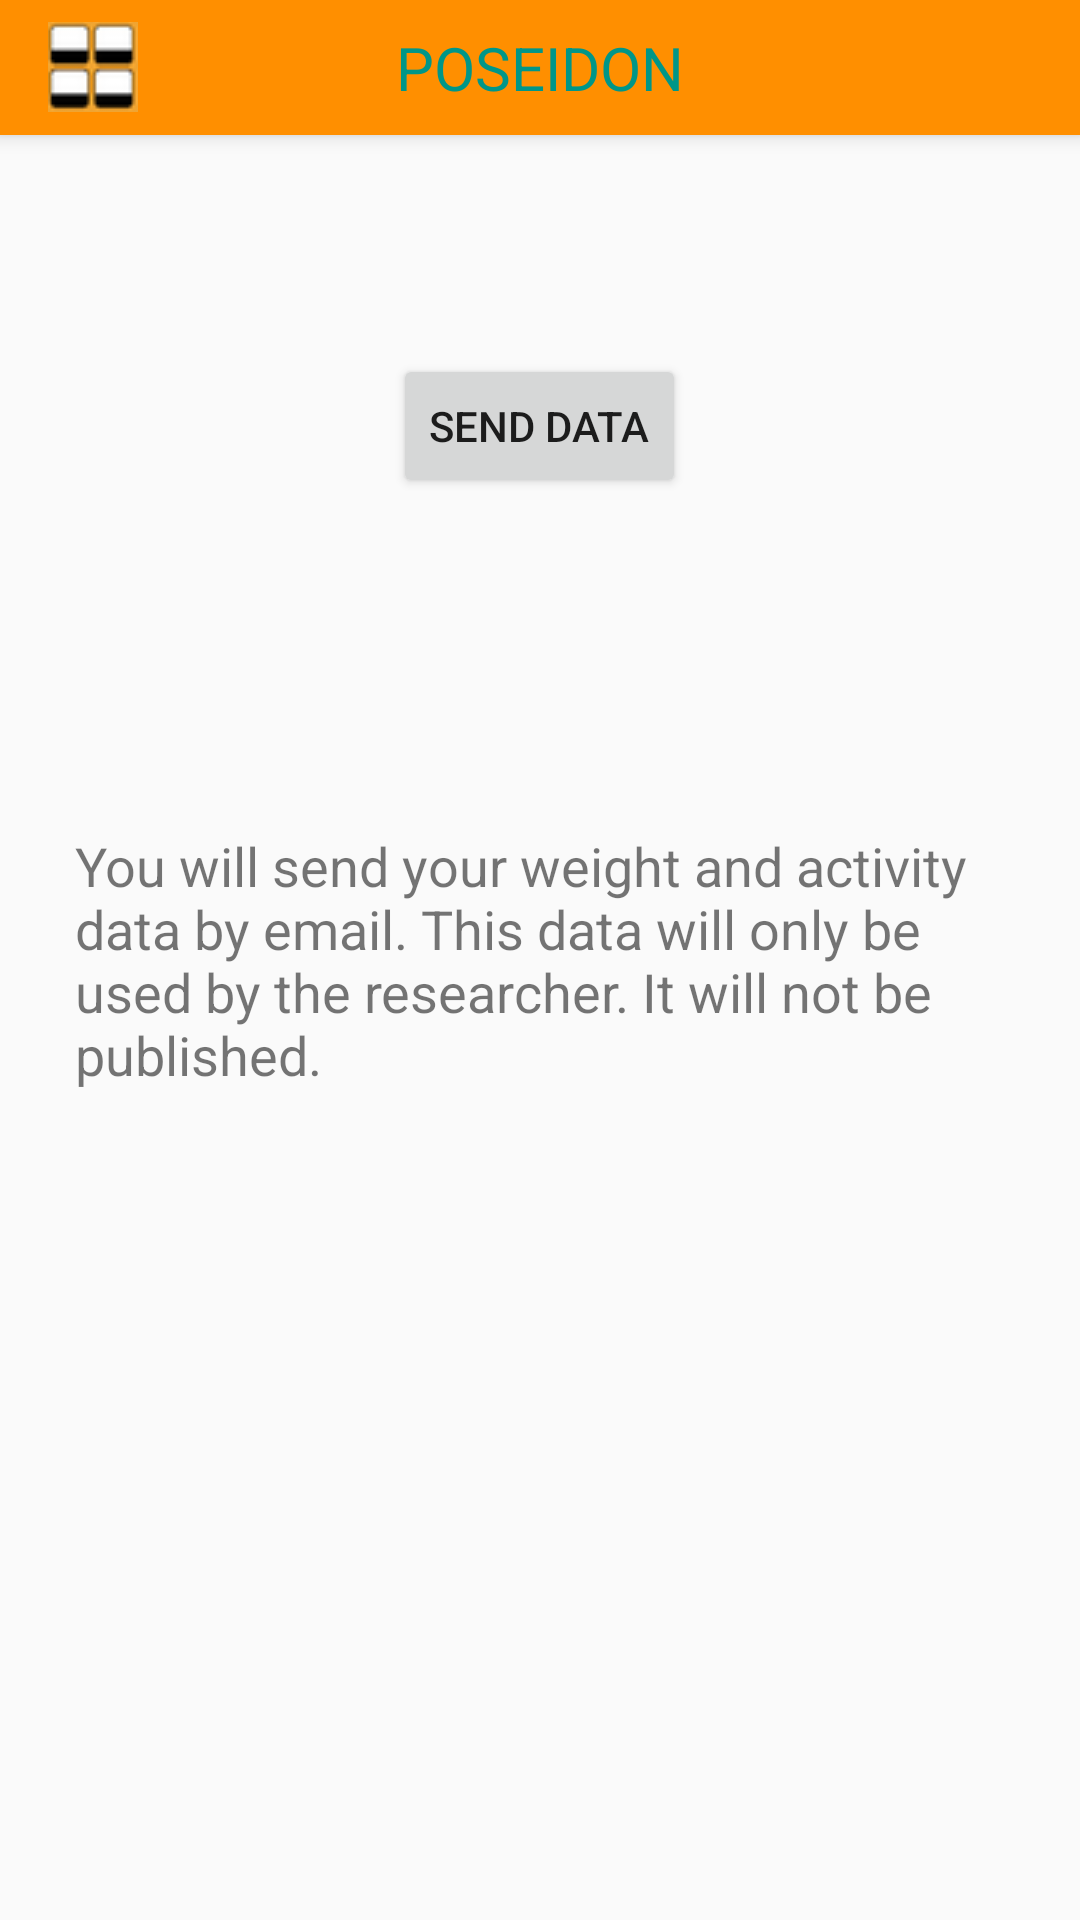

Icon click points for this 1080 x 1920 phone screenshot, format [x,y]:
homebutton: [93,67]
